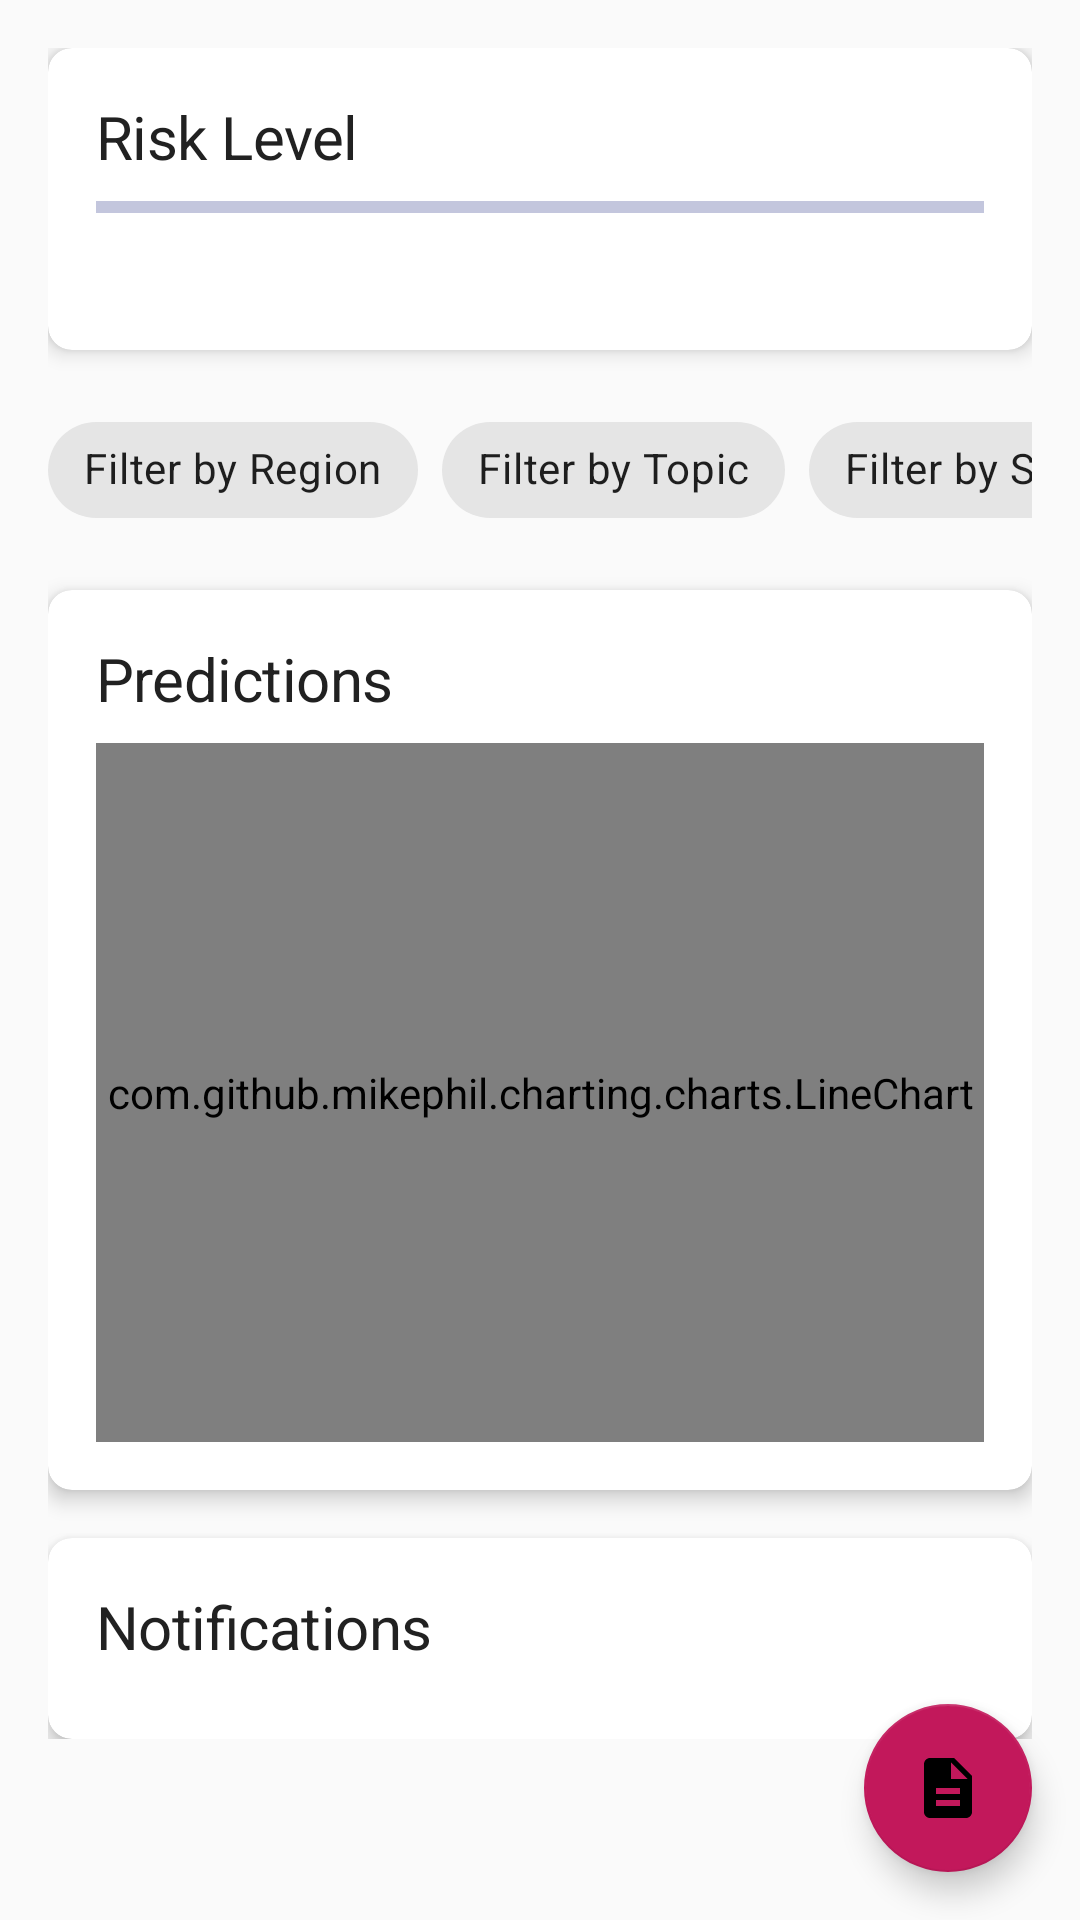

Icons on this 1080px x 1920px Android screen, each with its box as (x1, y1, x2, y2):
Export Report: (864, 1704, 1032, 1872)
